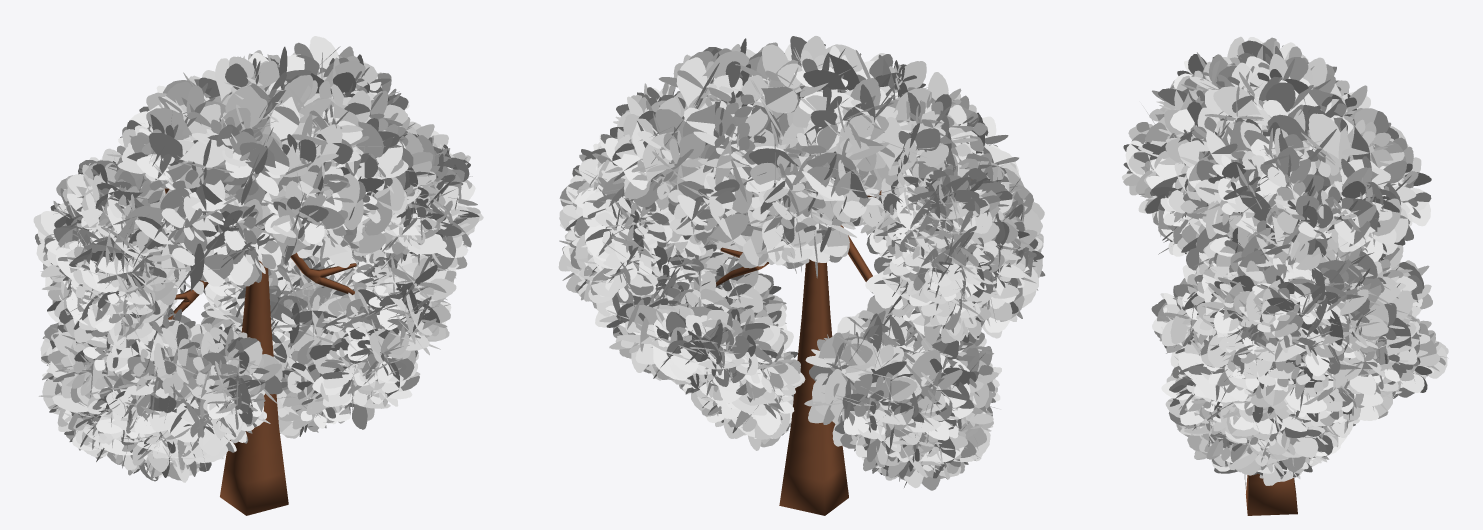
The picture shows the model from 3 angles, left to right: view 1: azimuth 30°, elevation 25°; view 2: azimuth 150°, elevation 25°; view 3: azimuth 270°, elevation 25°; orthographic projection. The views are drawn at different scales.
Parts seen in each view (by area): view 1: leaf.001, Trunk; view 2: leaf.001, Trunk; view 3: leaf.001, Trunk.
Part boxes in pixels (<box>): leaf.001: <box>33,36,483,482</box>; Trunk: <box>164,188,356,515</box>; leaf.001: <box>558,36,1045,490</box>; Trunk: <box>716,190,881,515</box>; leaf.001: <box>1122,36,1448,488</box>; Trunk: <box>1245,473,1297,515</box>.
Bounding box in the file's own units: 531 × 501 × 364.
